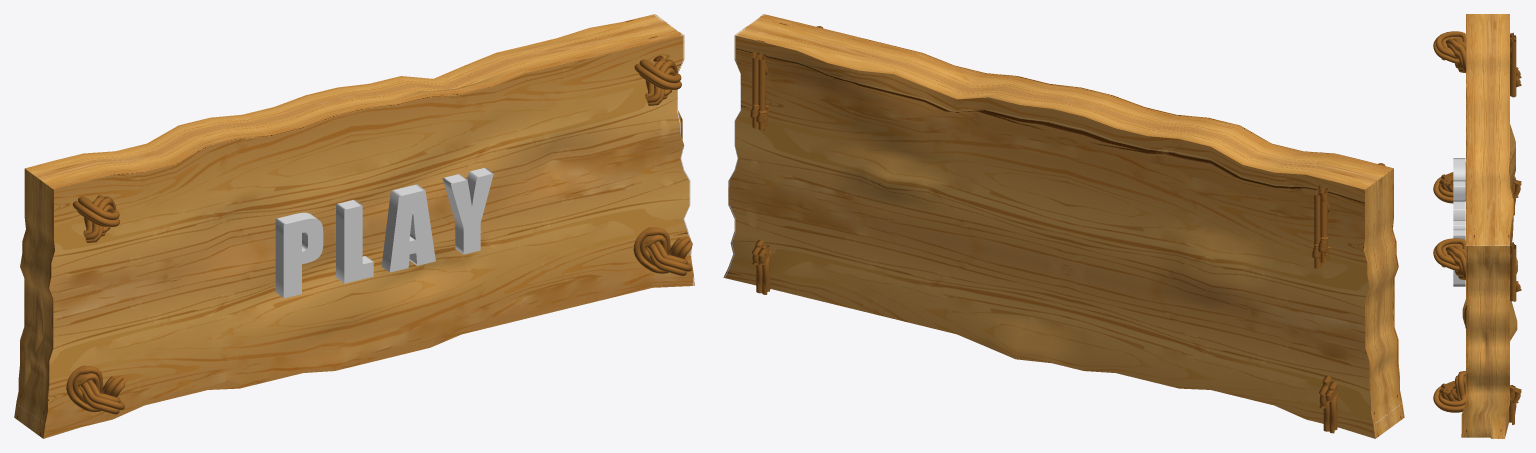
The model's file is secondboardconnecto.fbx.
The picture shows the model from 3 angles, left to right: view 1: azimuth 30°, elevation 25°; view 2: azimuth 150°, elevation 25°; view 3: azimuth 270°, elevation 25°; orthographic projection. The views are drawn at different scales.
Parts seen in each view (by area): view 1: polySurface76, polySurface63, polySurface65, polySurface62, polySurface64, polySurface82, polySurface90; view 2: polySurface76, polySurface94; view 3: polySurface76, polySurface82, polySurface95, polySurface103, polySurface83, polySurface104, polySurface62, polySurface96, polySurface90, polySurface94, polySurface91, polySurface65 (+7 smaller).
Boxes of the visible parts, x1=… form: polySurface76: x1=14, y1=14, x2=694, y2=438; polySurface63: x1=381, y1=184, x2=435, y2=272; polySurface65: x1=275, y1=212, x2=323, y2=298; polySurface62: x1=442, y1=167, x2=493, y2=254; polySurface64: x1=336, y1=199, x2=373, y2=283; polySurface82: x1=633, y1=227, x2=692, y2=273; polySurface90: x1=66, y1=365, x2=125, y2=412; polySurface76: x1=723, y1=14, x2=1404, y2=438; polySurface94: x1=1318, y1=187, x2=1329, y2=263; polySurface76: x1=1461, y1=14, x2=1517, y2=438; polySurface82: x1=1438, y1=371, x2=1521, y2=424; polySurface95: x1=1433, y1=37, x2=1521, y2=97; polySurface103: x1=1433, y1=244, x2=1521, y2=301; polySurface83: x1=1433, y1=375, x2=1521, y2=411; polySurface104: x1=1435, y1=238, x2=1510, y2=294; polySurface62: x1=1453, y1=220, x2=1465, y2=286; polySurface96: x1=1435, y1=31, x2=1510, y2=65; polySurface90: x1=1438, y1=162, x2=1521, y2=215; polySurface94: x1=1445, y1=32, x2=1521, y2=78; polySurface91: x1=1433, y1=172, x2=1521, y2=202; polySurface65: x1=1453, y1=158, x2=1465, y2=180.
Size of the model in its own units: 13.69 by 5.1 by 2.11.
3 materials, 1 textured.
